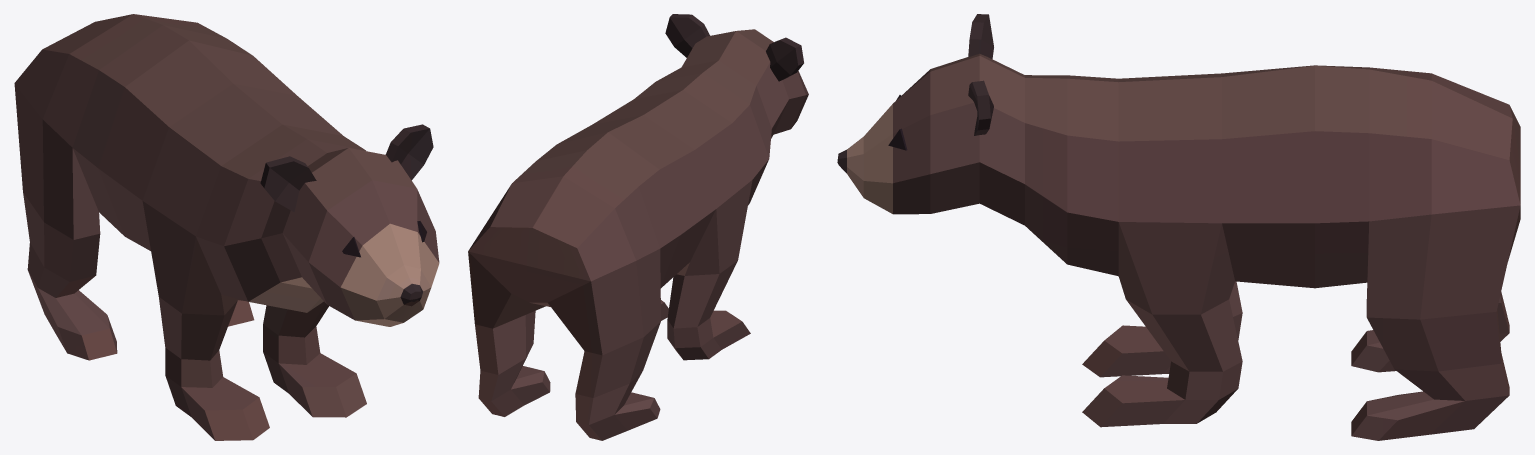
Rendered from dc_78YWzT_R.glb.
3 renders of one model, left to right at view 1: azimuth 30°, elevation 25°; view 2: azimuth 150°, elevation 25°; view 3: azimuth 270°, elevation 25°, orthographic. The views are drawn at different scales.
Parts seen in each view (by area): view 1: Geo_BearCub; view 2: Geo_BearCub; view 3: Geo_BearCub.
Boxes of the visible parts, x1,y1,x2,y2 form: Geo_BearCub: [14, 14, 439, 440]; Geo_BearCub: [468, 14, 808, 440]; Geo_BearCub: [837, 14, 1520, 440].
Bounding box in the file's own units: 0.6091 × 0.9999 × 1.81.
1 material, 1 textured.
